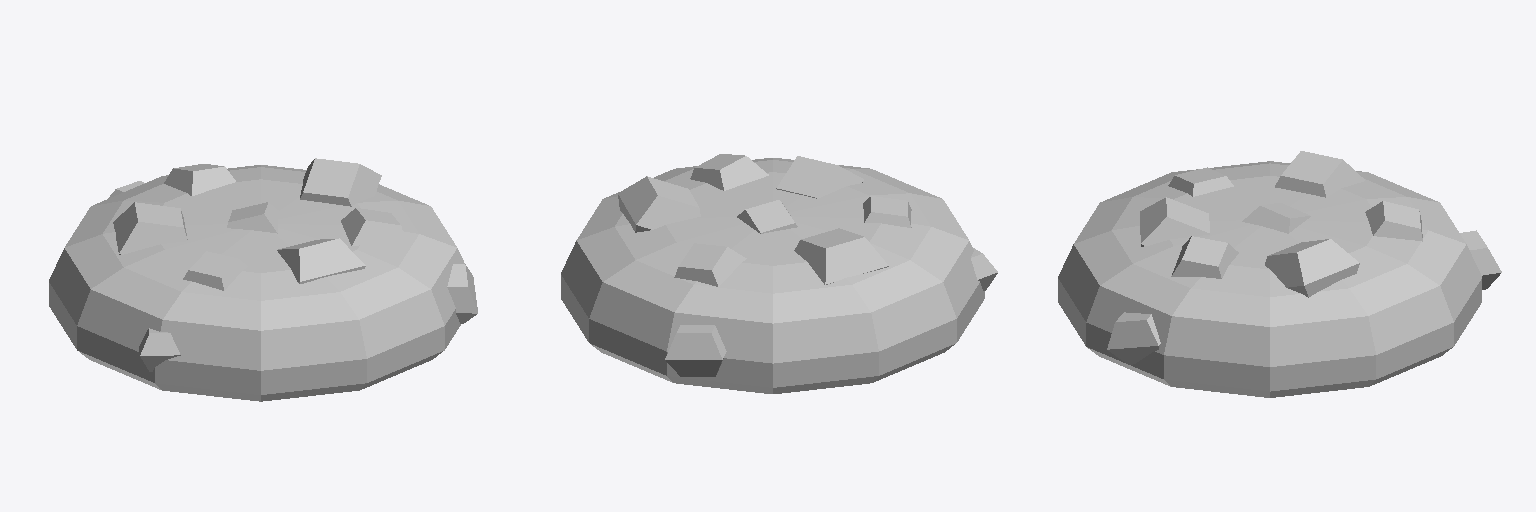
Rendered from cookie.obj.
3 renders of one model, left to right at view 1: azimuth 30°, elevation 25°; view 2: azimuth 150°, elevation 25°; view 3: azimuth 270°, elevation 25°, orthographic.
Parts seen in each view (by area): view 1: cookie; view 2: cookie; view 3: cookie.
Boxes of the visible parts, x1=… form: cookie: x1=49, y1=158, x2=477, y2=401; cookie: x1=561, y1=154, x2=997, y2=393; cookie: x1=1058, y1=151, x2=1501, y2=397.
Size of the model in its own units: 0.511 by 0.1554 by 0.5348.